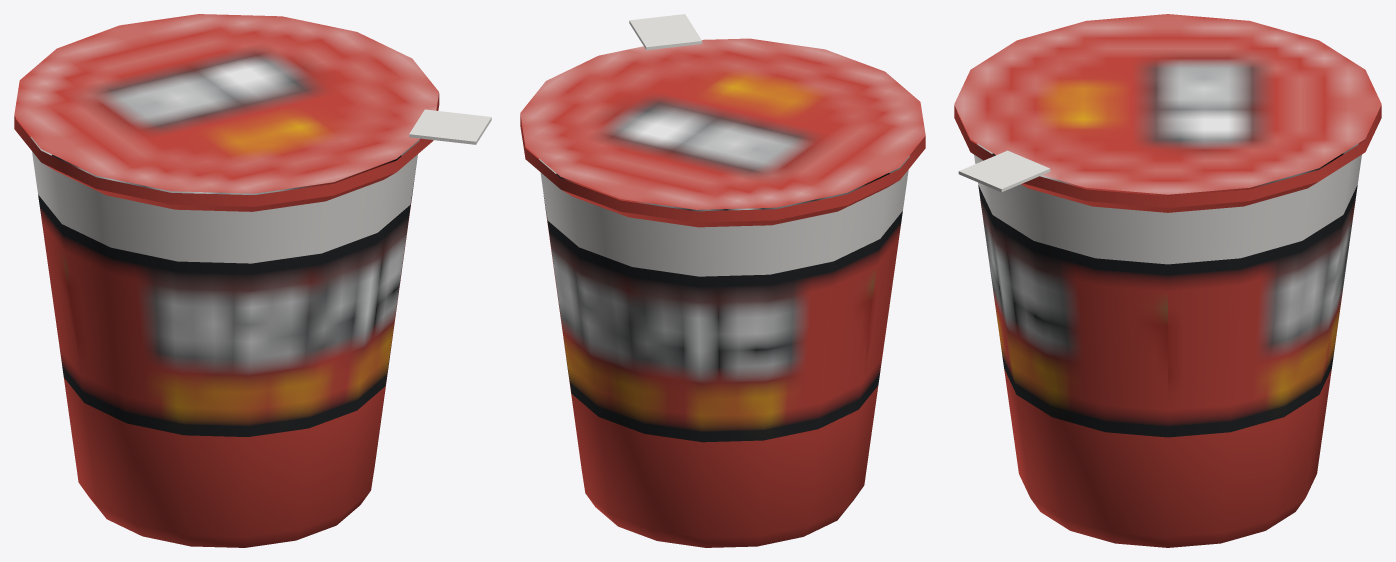
Rendered from SC_Prod_CupRamen_Small_Spicy.gltf.
3 renders of one model, left to right at view 1: azimuth 30°, elevation 25°; view 2: azimuth 150°, elevation 25°; view 3: azimuth 270°, elevation 25°, orthographic. The views are drawn at different scales.
Parts seen in each view (by area): view 1: SC_Prod_CupRamen_Small_Spicy; view 2: SC_Prod_CupRamen_Small_Spicy; view 3: SC_Prod_CupRamen_Small_Spicy.
Part boxes in pixels (left/top/right/bottom): SC_Prod_CupRamen_Small_Spicy: left=14, top=14, right=491, bottom=547; SC_Prod_CupRamen_Small_Spicy: left=520, top=14, right=925, bottom=547; SC_Prod_CupRamen_Small_Spicy: left=954, top=14, right=1381, bottom=547.
Bounding box in the file's own units: 0.099 × 0.0993 × 0.099.
Materials: 2 (2 with a texture image).
